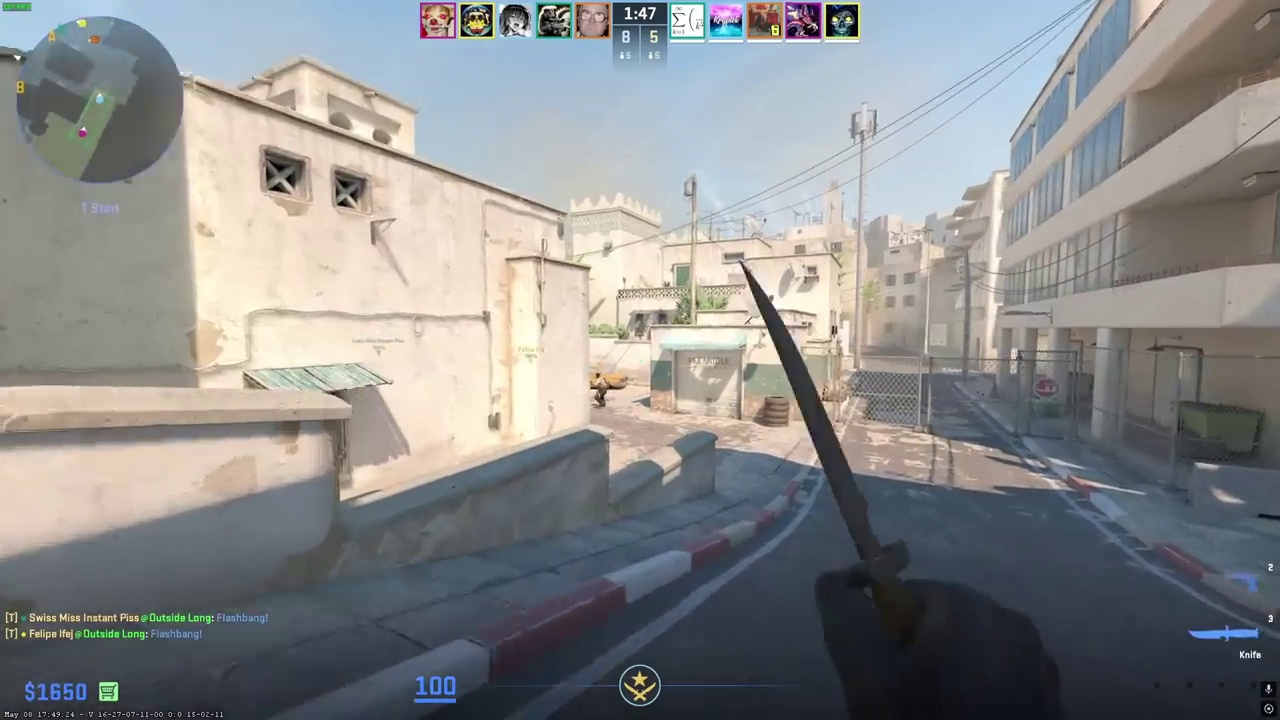Terrorist: (592, 372, 608, 407)
